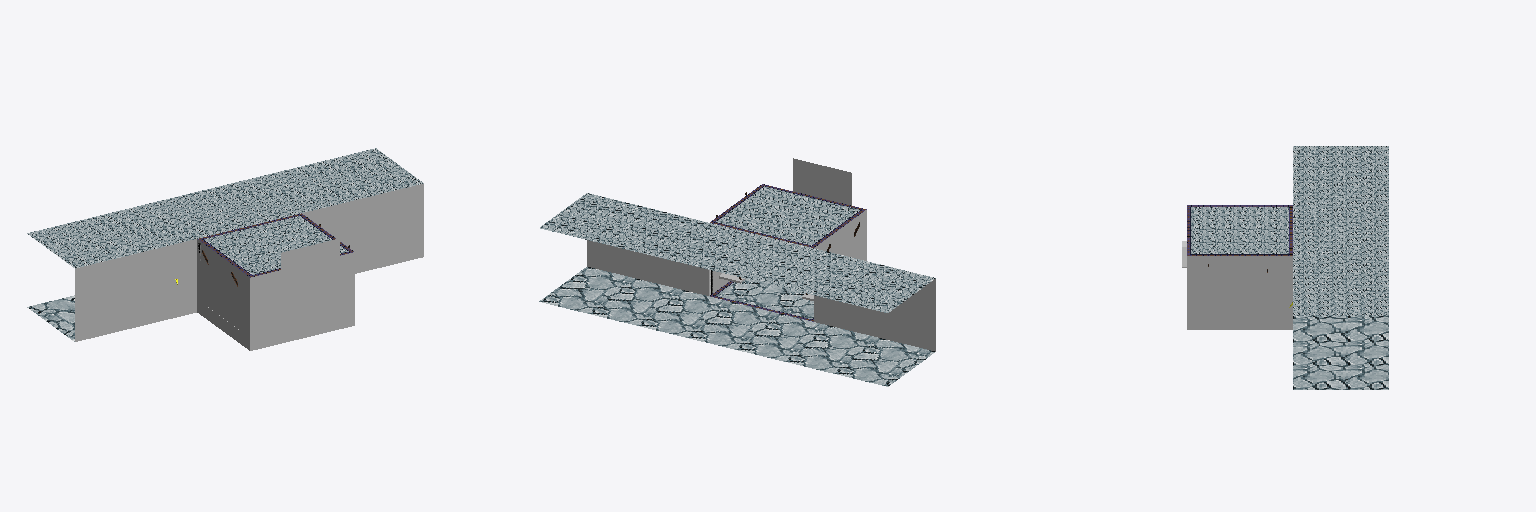
3 views of the same model, side by side, from view 1: azimuth 30°, elevation 25°; view 2: azimuth 150°, elevation 25°; view 3: azimuth 270°, elevation 25° (orthographic).
Visible parts, largest first — view 1: Prison_Collection_Wall#SFX_2, Prison_Collection_Stone#SFX_2, Prison_Collection_Sky#SFX_2, Prison_Collection_Edge#SFX_2#ClampY; view 2: Prison_Collection_Stone#SFX_2, Prison_Collection_Wall#SFX_2, Prison_Collection_Sky#SFX_2, Prison_Collection_Edge#SFX_2#ClampY; view 3: Prison_Collection_Stone#SFX_2, Prison_Collection_Wall#SFX_2, Prison_Collection_Edge#SFX_2#ClampY.
Part boxes in pixels (left/top/right/bottom): Prison_Collection_Wall#SFX_2: left=75, top=184, right=423, bottom=350; Prison_Collection_Stone#SFX_2: left=27, top=148, right=423, bottom=341; Prison_Collection_Sky#SFX_2: left=281, top=238, right=339, bottom=314; Prison_Collection_Edge#SFX_2#ClampY: left=198, top=213, right=353, bottom=277; Prison_Collection_Stone#SFX_2: left=539, top=186, right=935, bottom=386; Prison_Collection_Wall#SFX_2: left=587, top=210, right=935, bottom=351; Prison_Collection_Sky#SFX_2: left=793, top=158, right=851, bottom=205; Prison_Collection_Edge#SFX_2#ClampY: left=710, top=184, right=866, bottom=321; Prison_Collection_Stone#SFX_2: left=1191, top=146, right=1388, bottom=389; Prison_Collection_Wall#SFX_2: left=1182, top=241, right=1292, bottom=329; Prison_Collection_Edge#SFX_2#ClampY: left=1187, top=205, right=1292, bottom=255.
Bounding box in the file's own units: 11.76 × 3.25 × 6.37.
11 materials, 7 textured.